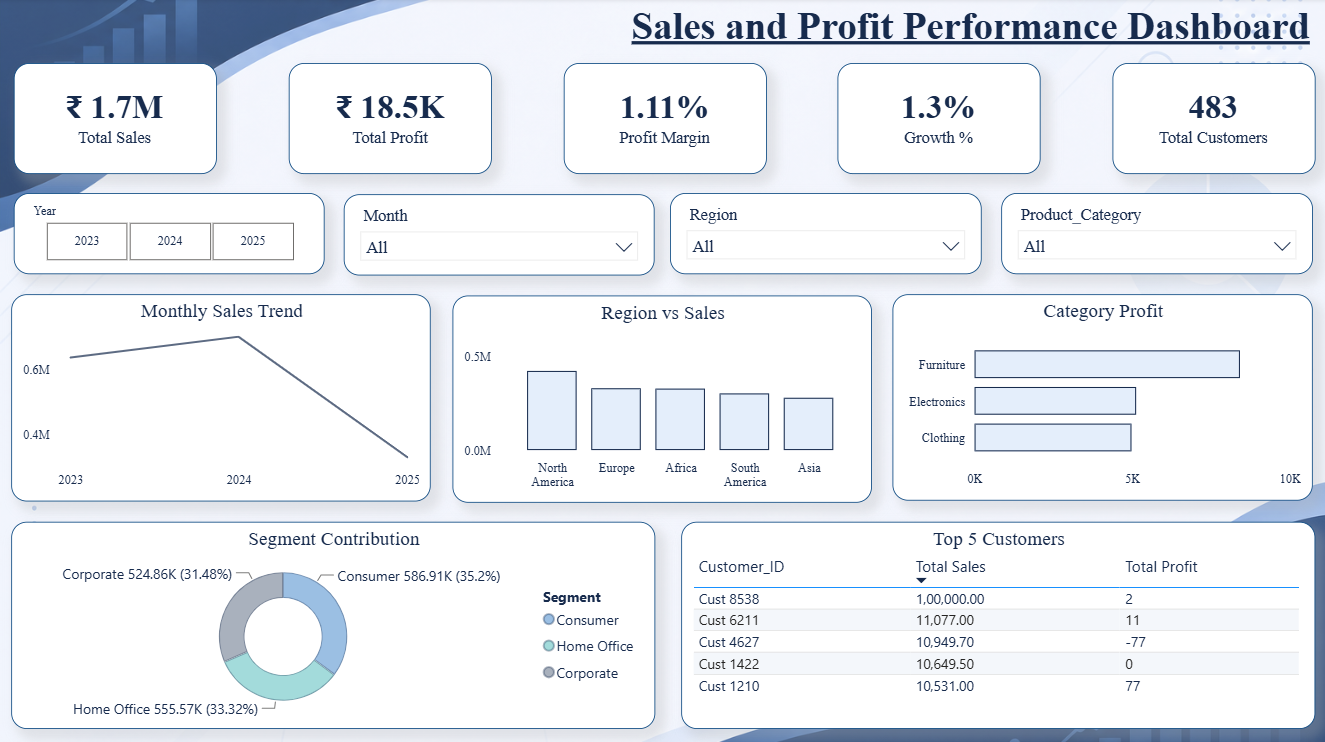

The page's visual inventory and layout, read from the dashboard file:
{"tool":"powerbi","page":{"name":"Page 1","canvas":[1280,720],"ordinal":0},"visuals":[{"type":"textbox","box":[10.9,0,1258.3,62.7],"z":0},{"type":"cardVisual","fields":{"Data":["Measures (3).Total Sales"]},"box":[13.7,63.1,196,107],"z":1000},{"type":"lineChart","title":"Monthly Sales Trend","fields":{"Y":["Measures (3).Total Sales"],"Category":["Calendar.Date.Variation.Date Hierarchy.Year","Calendar.Date.Variation.Date Hierarchy.Month"]},"box":[11,285.4,405,200],"z":2000},{"type":"cardVisual","fields":{"Data":["Measures (3).Total Profit"]},"box":[278.6,63.1,196.2,107],"z":3000},{"type":"columnChart","title":"Region vs Sales","fields":{"Category":["Sales_Analysis.Region"],"Y":["Measures (3).Total Sales"]},"box":[436.4,286.8,404.8,200],"z":4000},{"type":"cardVisual","fields":{"Data":["Measures (3).Profit Margin"]},"box":[543.6,63.1,196,107],"z":5000},{"type":"barChart","title":"Category Profit","fields":{"Category":["Sales_Analysis.Product_Category"],"Y":["Measures (3).Total Profit"]},"box":[861.4,285.9,405.4,199.1],"z":6000},{"type":"cardVisual","fields":{"Data":["Measures (3).Total Customers"]},"box":[1073.3,63.1,196,107],"z":7000},{"type":"tableEx","title":"Top 5 Customers","fields":{"Values":["Sales_Analysis.Customer_ID","Measures (3).Total Sales","Measures (3).Total Profit"]},"box":[657.5,505.5,611.7,200.3],"z":8000},{"type":"cardVisual","fields":{"Data":["Measures (3).Growth %"]},"box":[808.5,63.1,196,107],"z":9000},{"type":"donutChart","title":"Segment Contribution","fields":{"Category":["Sales_Analysis.Segment"],"Y":["Measures (3).Total Sales"]},"box":[10.9,505.5,621.3,200.3],"z":10000},{"type":"slicer","fields":{"Values":["Calendar.Year"]},"box":[13.7,188,300,78.2],"z":11000},{"type":"slicer","fields":{"Values":["Calendar.Month"]},"box":[332.1,189.4,300,78.2],"z":12000},{"type":"slicer","fields":{"Values":["Sales_Analysis.Region"]},"box":[646.3,188,300.5,78.2],"z":13000},{"type":"slicer","fields":{"Values":["Sales_Analysis.Product_Category"]},"box":[966,188,300.5,78.2],"z":14000}]}

Visuals, with their boxes in screenshot pixels (x1, y1, x2, y2), scaled from the page's 1280x720 canvas onto the 1325x742 screenshot:
textbox: (x1=11, y1=0, x2=1314, y2=65)
cardVisual - Measures (3).Total Sales: (x1=14, y1=65, x2=217, y2=175)
"Monthly Sales Trend" lineChart: (x1=11, y1=294, x2=431, y2=500)
cardVisual - Measures (3).Total Profit: (x1=288, y1=65, x2=491, y2=175)
"Region vs Sales" columnChart: (x1=452, y1=296, x2=871, y2=502)
cardVisual - Measures (3).Profit Margin: (x1=563, y1=65, x2=766, y2=175)
"Category Profit" barChart: (x1=892, y1=295, x2=1311, y2=500)
cardVisual - Measures (3).Total Customers: (x1=1111, y1=65, x2=1314, y2=175)
"Top 5 Customers" tableEx: (x1=681, y1=521, x2=1314, y2=727)
cardVisual - Measures (3).Growth %: (x1=837, y1=65, x2=1040, y2=175)
"Segment Contribution" donutChart: (x1=11, y1=521, x2=654, y2=727)
slicer - Calendar.Year: (x1=14, y1=194, x2=325, y2=274)
slicer - Calendar.Month: (x1=344, y1=195, x2=654, y2=276)
slicer - Sales_Analysis.Region: (x1=669, y1=194, x2=980, y2=274)
slicer - Sales_Analysis.Product_Category: (x1=1000, y1=194, x2=1311, y2=274)
